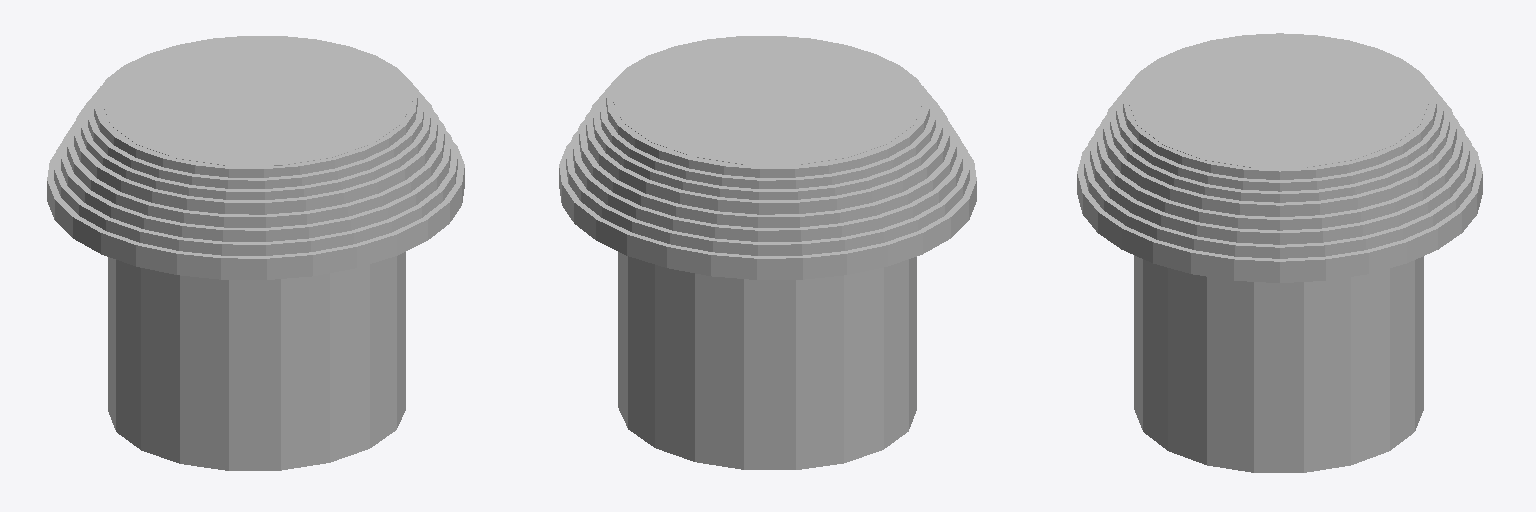
Rendered from hongo.obj.
3 views of the same model, side by side, from view 1: azimuth 30°, elevation 25°; view 2: azimuth 150°, elevation 25°; view 3: azimuth 270°, elevation 25° (orthographic).
Parts seen in each view (by area): view 1: Hongo_01; view 2: Hongo_01; view 3: Hongo_01.
Part boxes in pixels (left/top/right/bottom): Hongo_01: left=47, top=36, right=464, bottom=470; Hongo_01: left=559, top=36, right=976, bottom=469; Hongo_01: left=1077, top=33, right=1482, bottom=472.
Bounding box in the file's own units: 9.88 × 7.94 × 9.48.